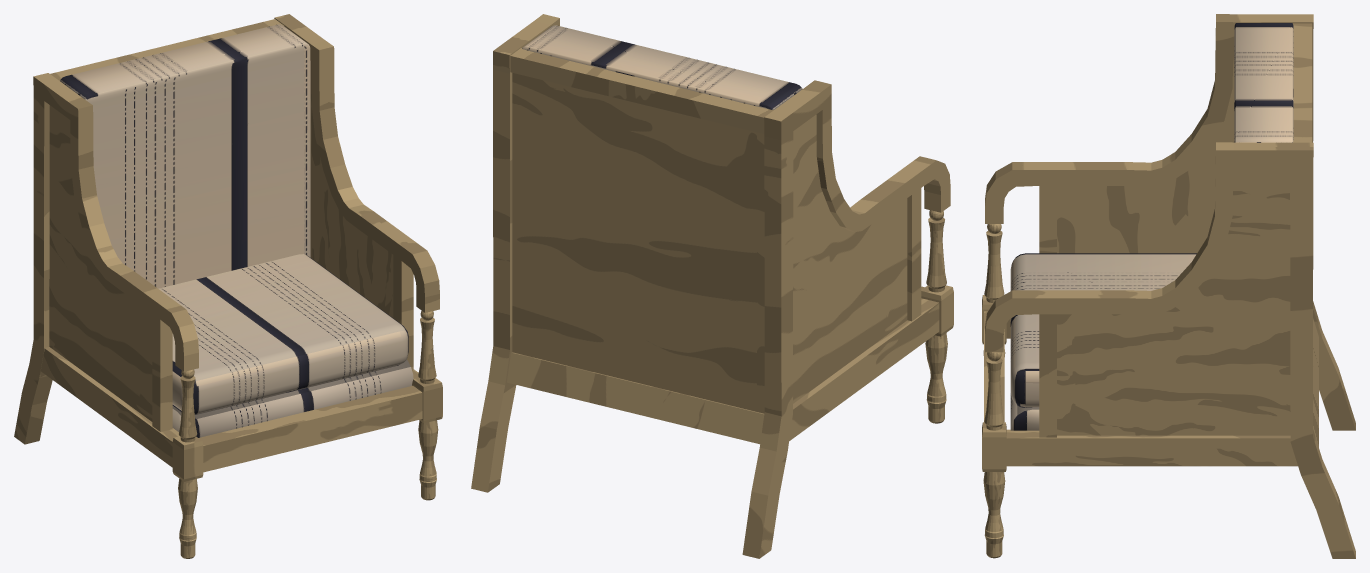
File: classic chair.fbx
3 renders of one model, left to right at view 1: azimuth 30°, elevation 25°; view 2: azimuth 150°, elevation 25°; view 3: azimuth 270°, elevation 25°, orthographic. The views are drawn at different scales.
Parts seen in each view (by area): view 1: classic chair; view 2: classic chair; view 3: classic chair.
Boxes of the visible parts, <box> form: classic chair: <box>14,14,442,558</box>; classic chair: <box>471,14,953,558</box>; classic chair: <box>982,14,1355,558</box>.
Size of the model in its own units: 69.69 by 96.88 by 79.83.
2 materials, 2 textured.
